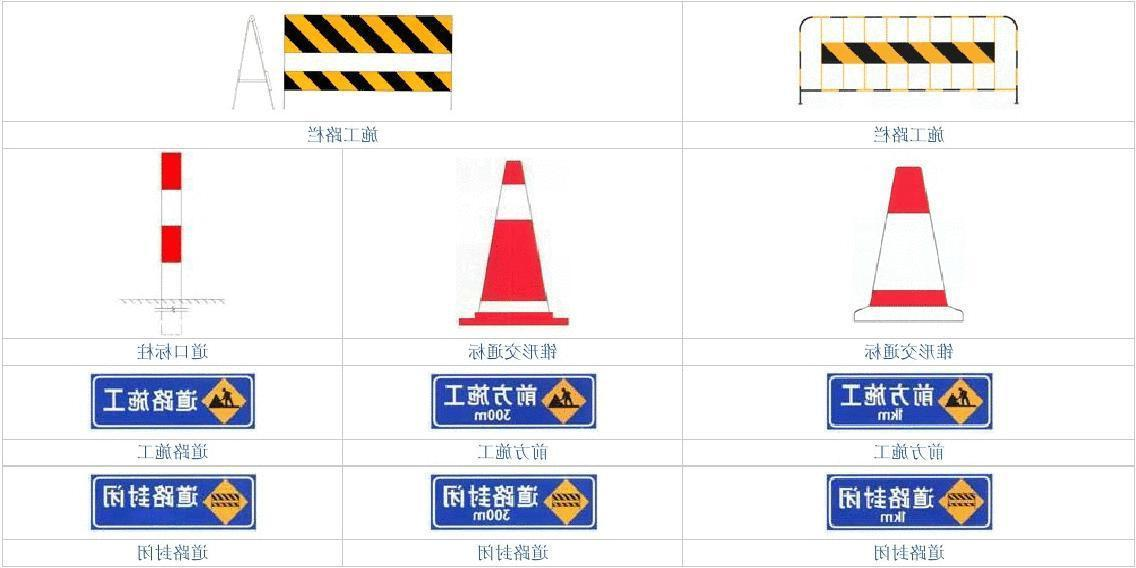sign: (431, 475, 598, 531), (827, 475, 995, 530), (431, 376, 600, 429), (826, 376, 993, 428), (92, 477, 258, 529), (90, 374, 254, 424)
